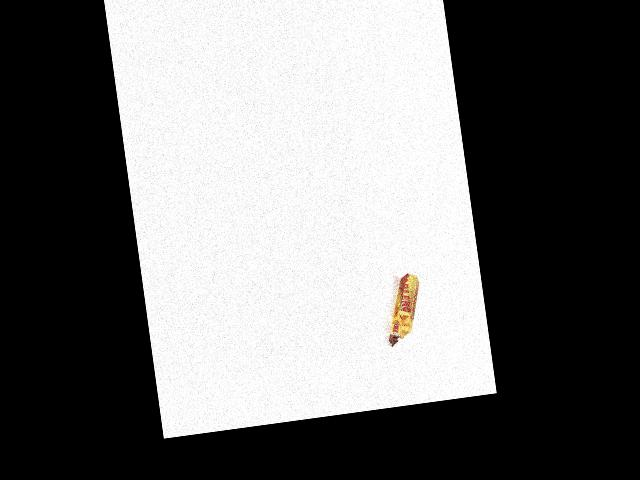chocolate: (377, 272, 428, 347)
